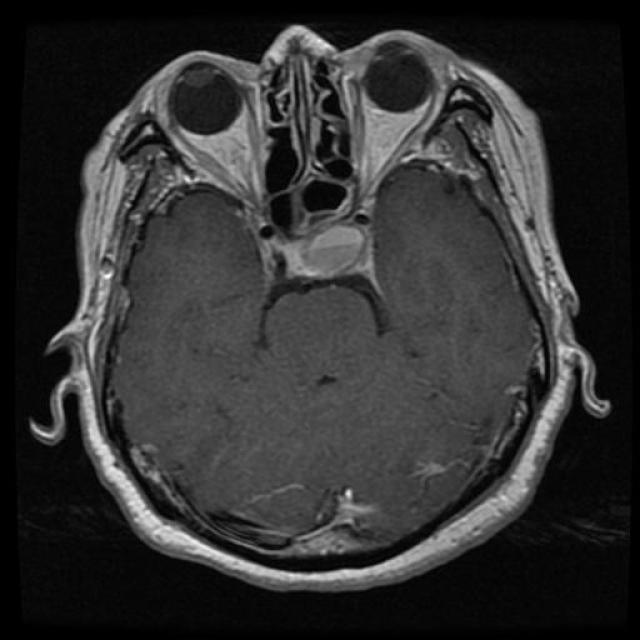pituitary: (257, 223, 388, 294)
